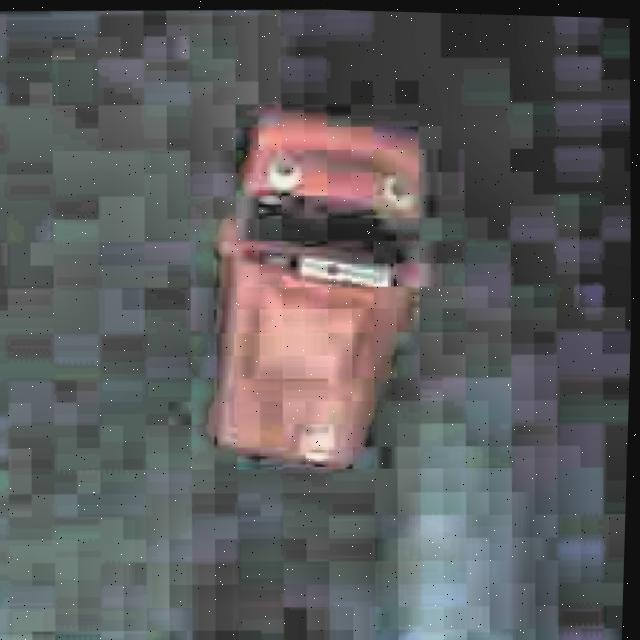bus: (187, 91, 453, 484)
